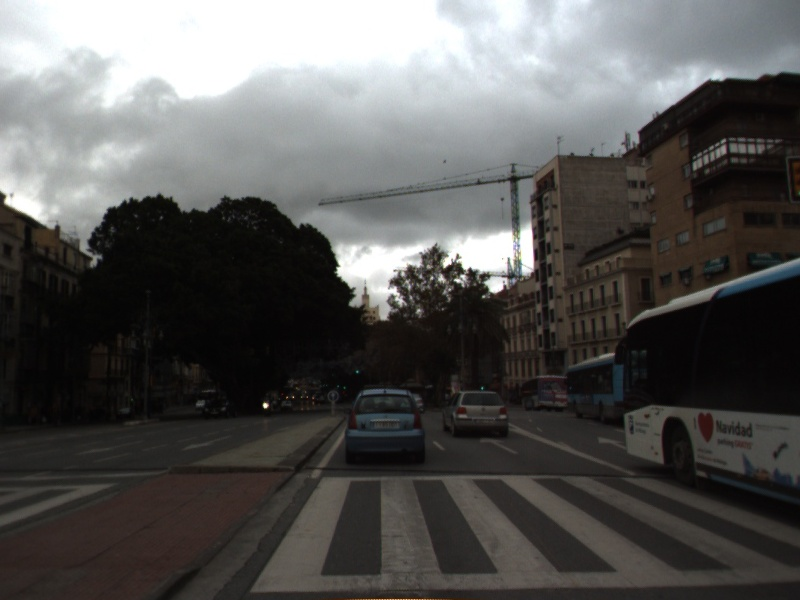STRAIGHT: (477, 434, 522, 456), (590, 430, 629, 452)
